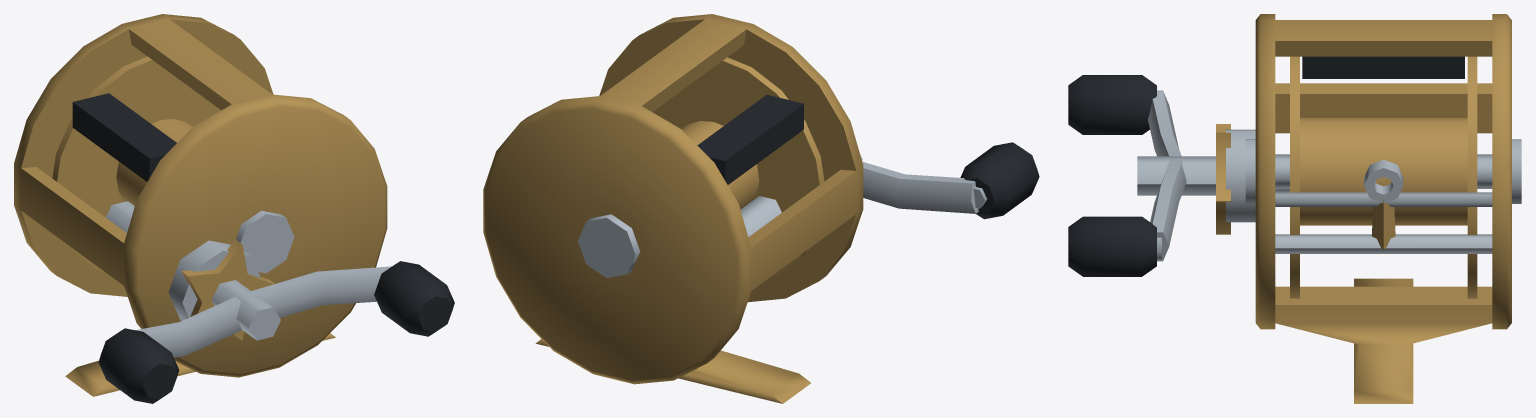
File: reel_03_round_baitcaster.glb
3 views of the same model, side by side, from view 1: azimuth 30°, elevation 25°; view 2: azimuth 150°, elevation 25°; view 3: azimuth 270°, elevation 25° (orthographic). The views are drawn at different scales.
Visible parts, largest first — view 1: 03_round_baitcaster__Continuous_frame_and_foot, 03_round_baitcaster__Empty_spool, 03_round_baitcaster__Crank_casting, 03_round_baitcaster__Clutch_thumb_bar, 03_round_baitcaster__Grip_0, 03_round_baitcaster__Grip_1, 03_round_baitcaster__Crank_drive_shaft, 03_round_baitcaster__Spool_bearing_seats, 03_round_baitcaster__Star_drag_adjuster, 03_round_baitcaster__Drive_bearing_boss; view 2: 03_round_baitcaster__Continuous_frame_and_foot, 03_round_baitcaster__Empty_spool, 03_round_baitcaster__Clutch_thumb_bar, 03_round_baitcaster__Crank_casting, 03_round_baitcaster__Grip_0, 03_round_baitcaster__Spool_bearing_seats, 03_round_baitcaster__Crank_drive_shaft; view 3: 03_round_baitcaster__Continuous_frame_and_foot, 03_round_baitcaster__Empty_spool, 03_round_baitcaster__Levelwind_support_rails, 03_round_baitcaster__Grip_1, 03_round_baitcaster__Grip_0, 03_round_baitcaster__Clutch_thumb_bar, 03_round_baitcaster__Crank_casting, 03_round_baitcaster__Crank_drive_shaft, 03_round_baitcaster__Lineguide_and_slider, 03_round_baitcaster__Drive_bearing_boss, 03_round_baitcaster__Spool_bearing_seats, 03_round_baitcaster__Star_drag_adjuster (+1 smaller).
Part boxes in pixels (x1,y1,x2,y2): 03_round_baitcaster__Continuous_frame_and_foot: [14, 14, 387, 396]; 03_round_baitcaster__Empty_spool: [52, 56, 220, 272]; 03_round_baitcaster__Crank_casting: [135, 266, 391, 357]; 03_round_baitcaster__Clutch_thumb_bar: [72, 93, 176, 181]; 03_round_baitcaster__Grip_0: [98, 328, 178, 403]; 03_round_baitcaster__Grip_1: [374, 261, 454, 336]; 03_round_baitcaster__Crank_drive_shaft: [106, 201, 280, 340]; 03_round_baitcaster__Spool_bearing_seats: [236, 210, 294, 273]; 03_round_baitcaster__Star_drag_adjuster: [181, 239, 274, 340]; 03_round_baitcaster__Drive_bearing_boss: [168, 240, 260, 320]; 03_round_baitcaster__Continuous_frame_and_foot: [483, 14, 863, 403]; 03_round_baitcaster__Empty_spool: [652, 57, 824, 277]; 03_round_baitcaster__Clutch_thumb_bar: [697, 94, 803, 184]; 03_round_baitcaster__Crank_casting: [862, 161, 978, 213]; 03_round_baitcaster__Grip_0: [960, 142, 1039, 219]; 03_round_baitcaster__Spool_bearing_seats: [578, 214, 640, 277]; 03_round_baitcaster__Crank_drive_shaft: [740, 154, 862, 236]; 03_round_baitcaster__Continuous_frame_and_foot: [1255, 14, 1511, 403]; 03_round_baitcaster__Empty_spool: [1290, 56, 1477, 298]; 03_round_baitcaster__Levelwind_support_rails: [1275, 192, 1492, 253]; 03_round_baitcaster__Grip_1: [1068, 216, 1156, 276]; 03_round_baitcaster__Grip_0: [1068, 75, 1156, 134]; 03_round_baitcaster__Clutch_thumb_bar: [1302, 56, 1464, 78]; 03_round_baitcaster__Crank_casting: [1148, 90, 1186, 261]; 03_round_baitcaster__Crank_drive_shaft: [1137, 156, 1289, 195]; 03_round_baitcaster__Lineguide_and_slider: [1364, 159, 1403, 249]; 03_round_baitcaster__Drive_bearing_boss: [1226, 129, 1255, 222]; 03_round_baitcaster__Spool_bearing_seats: [1245, 139, 1521, 203]; 03_round_baitcaster__Star_drag_adjuster: [1216, 124, 1230, 234].
Bounding box in the file's own units: 0.0851 × 0.0696 × 0.092.
